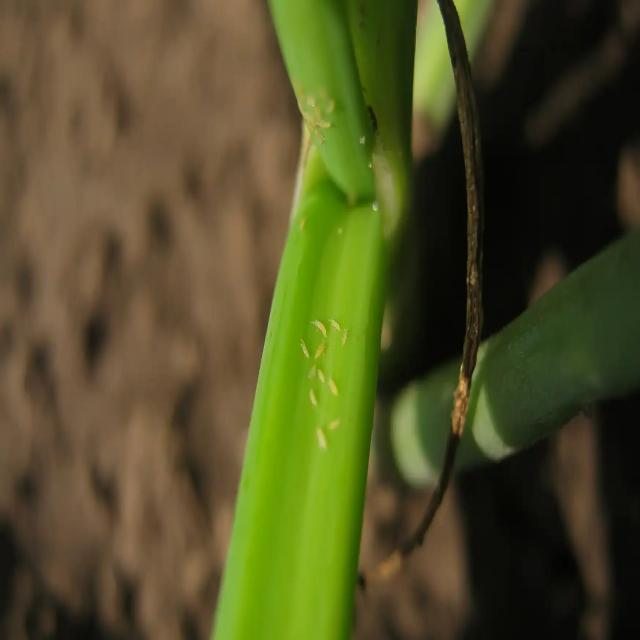Thrip-Group-: (286, 296, 361, 472)
Thrip-Larva-: (314, 423, 329, 455), (313, 339, 330, 363), (296, 331, 309, 362), (310, 317, 328, 337), (326, 375, 340, 399), (327, 411, 342, 433), (307, 386, 320, 410), (341, 322, 350, 350), (328, 314, 341, 333), (315, 366, 327, 386)
